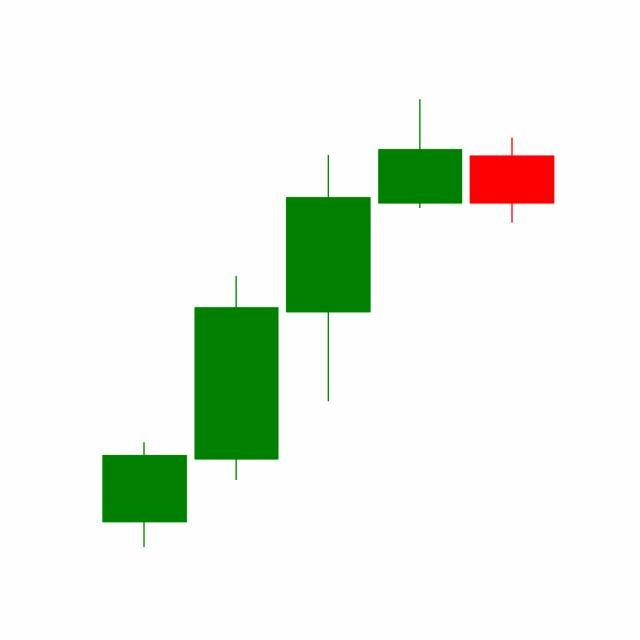Advance Block: (190, 99, 467, 485)
